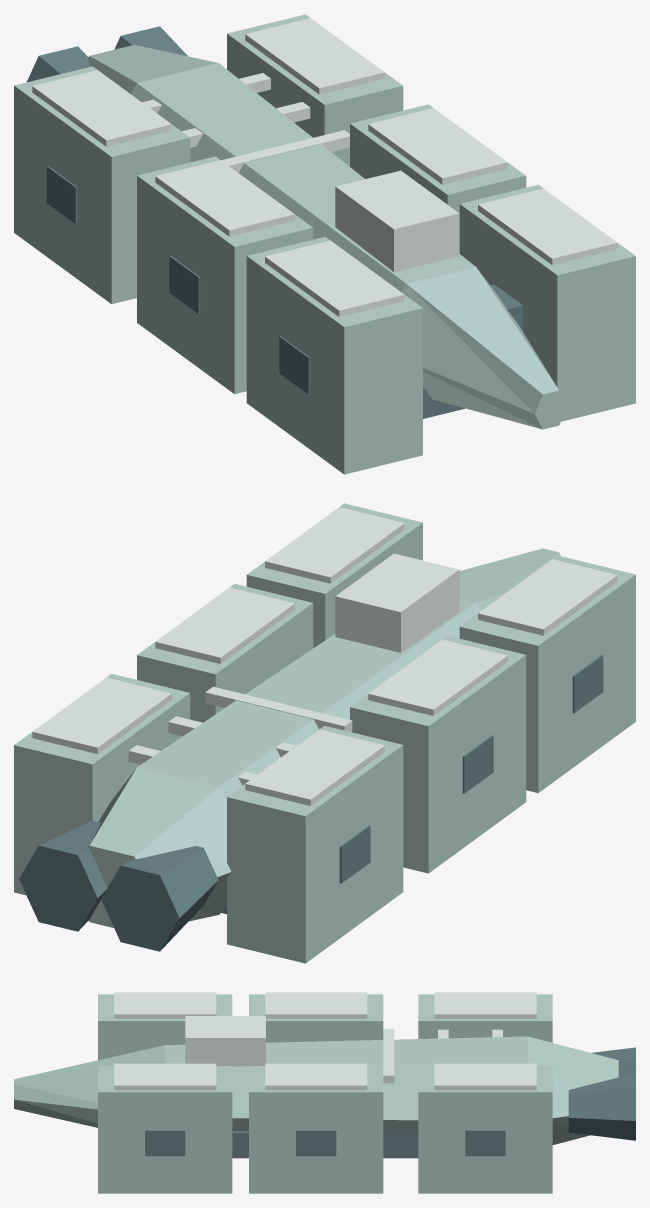
3 renders of one model, top to bottom at view 1: azimuth 30°, elevation 25°; view 2: azimuth 150°, elevation 25°; view 3: azimuth 270°, elevation 25°, orthographic. The views are drawn at different scales.
Bounding box in the file's own units: 3.42 × 1.9 × 9.07.
